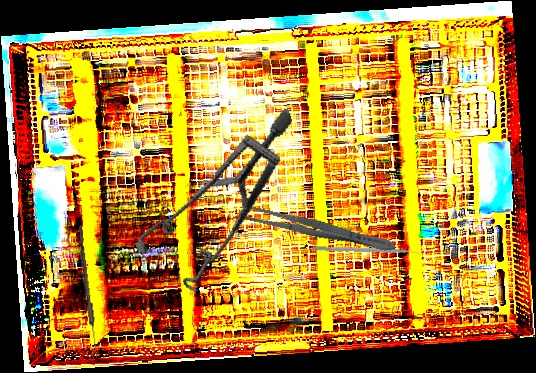Chopper: (311, 246, 426, 260)
Dressing Forceps: (238, 201, 398, 257)
Speculum: (110, 108, 333, 305)
Surgical Spoon: (75, 225, 101, 359)
